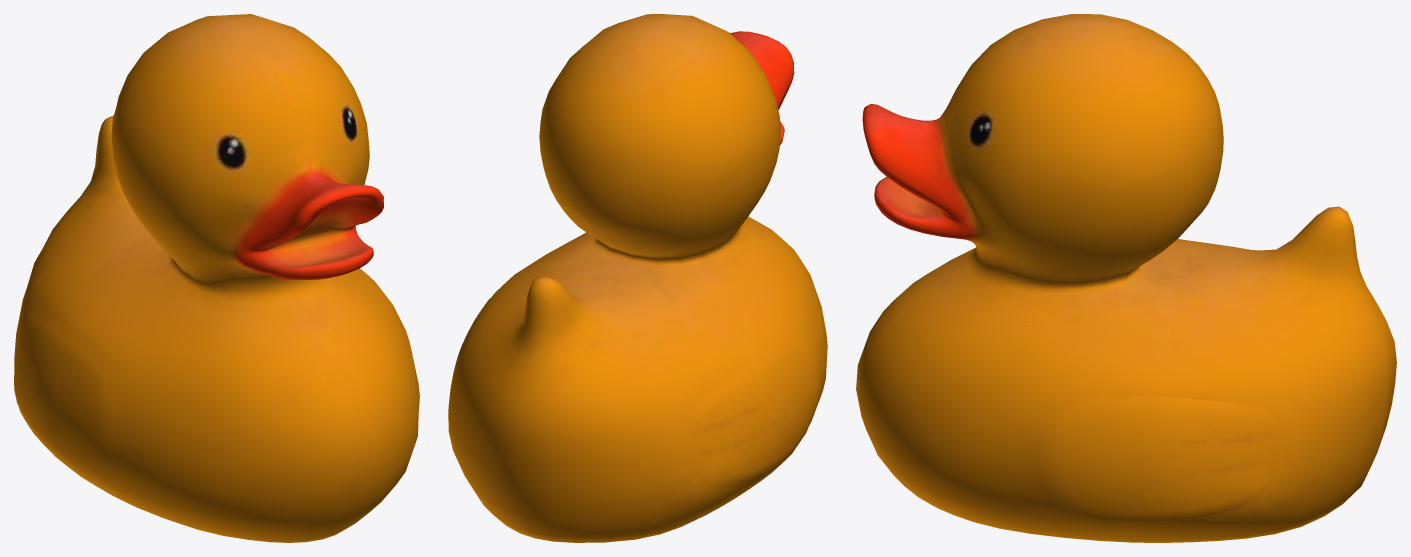
The model's file is rubber_duck_toy.glb.
The picture shows the model from 3 angles, left to right: view 1: azimuth 30°, elevation 25°; view 2: azimuth 150°, elevation 25°; view 3: azimuth 270°, elevation 25°; orthographic projection. The views are drawn at different scales.
Parts seen in each view (by area): view 1: rubber_duck_toy; view 2: rubber_duck_toy; view 3: rubber_duck_toy.
Boxes of the visible parts, x1=… form: rubber_duck_toy: x1=14, y1=14, x2=419, y2=542; rubber_duck_toy: x1=448, y1=14, x2=827, y2=542; rubber_duck_toy: x1=856, y1=14, x2=1396, y2=542.
Bounding box in the file's own units: 0.2135 × 0.2855 × 0.3.
1 material, 1 textured.
